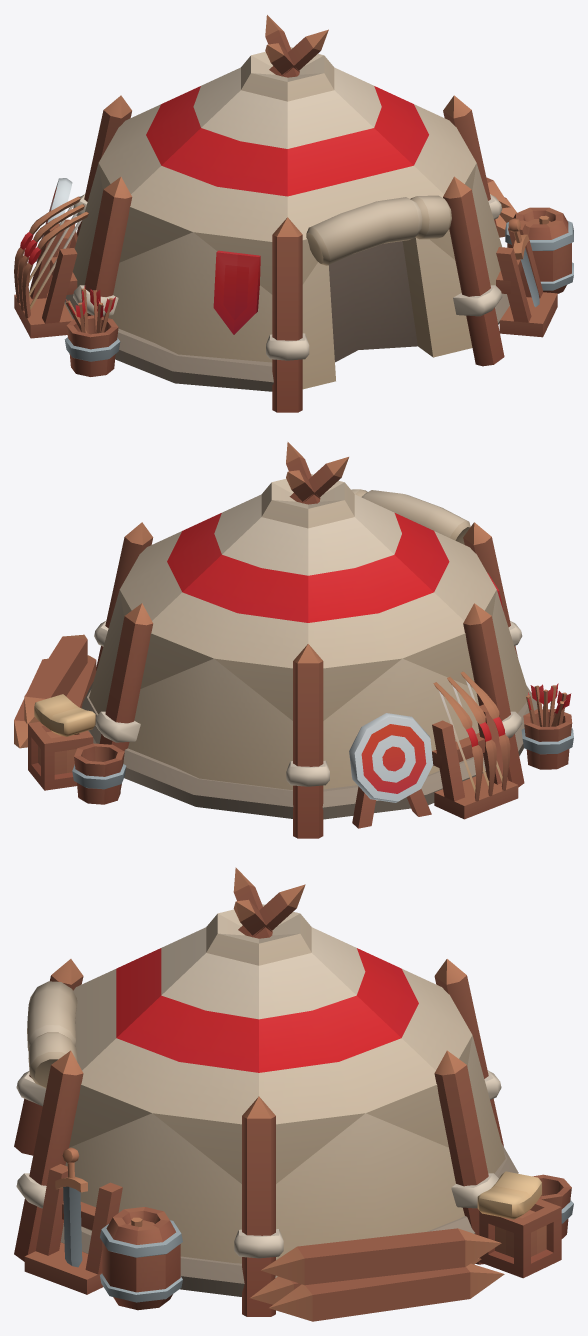
File: camp.glb
The picture shows the model from 3 angles, top to bottom: view 1: azimuth 30°, elevation 25°; view 2: azimuth 150°, elevation 25°; view 3: azimuth 270°, elevation 25°; orthographic projection. The views are drawn at different scales.
Visible parts, largest first — view 1: building_tent_red; view 2: building_tent_red; view 3: building_tent_red.
Part boxes in pixels (x1=…): building_tent_red: x1=14, y1=15, x2=573, y2=412; building_tent_red: x1=14, y1=442, x2=573, y2=838; building_tent_red: x1=14, y1=867, x2=573, y2=1321.
Size of the model in its own units: 1.52 by 0.8496 by 1.34.
Materials: 1 (1 with a texture image).
